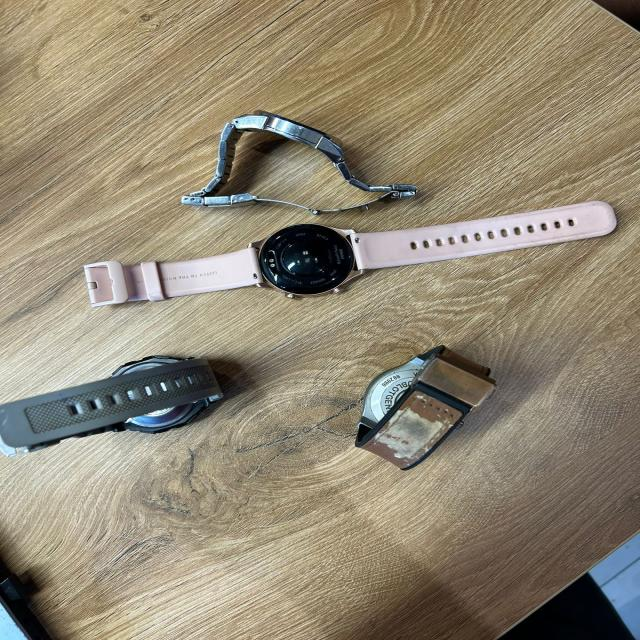watch: (352, 343, 498, 471)
